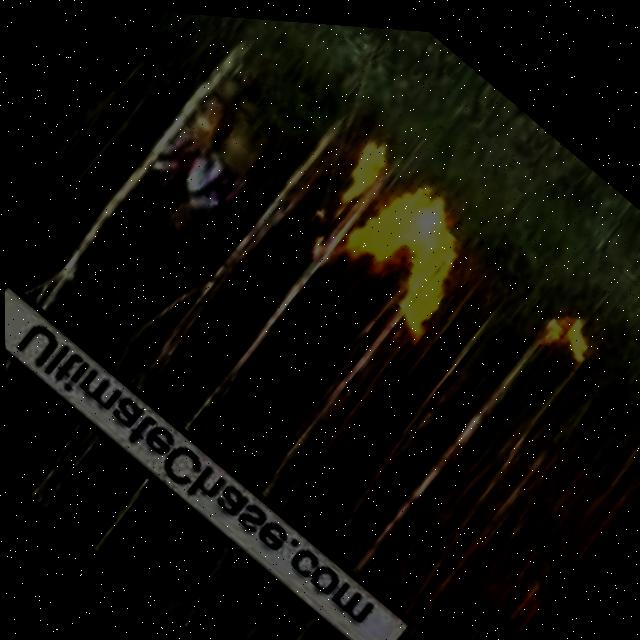Fire: (313, 147, 504, 350), (523, 281, 612, 376), (325, 115, 408, 211)
